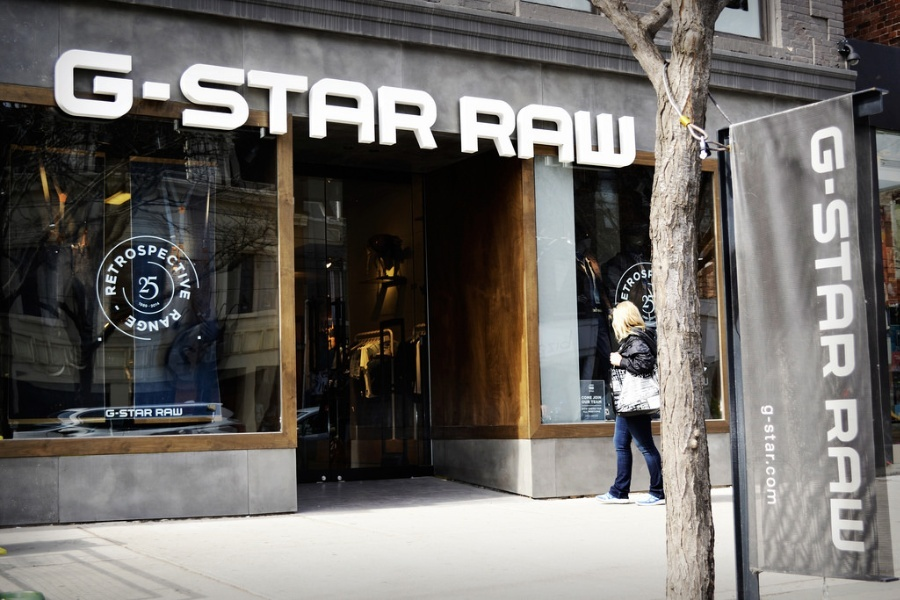text: (817, 123, 832, 381), (833, 123, 848, 381), (849, 123, 860, 381), (806, 123, 816, 381), (833, 396, 848, 554), (849, 396, 864, 554), (65, 46, 80, 151), (81, 46, 96, 151), (97, 46, 112, 151), (113, 46, 128, 151), (129, 46, 144, 151), (145, 46, 160, 151), (161, 46, 176, 151), (177, 46, 192, 151), (193, 46, 208, 151), (209, 46, 224, 151), (225, 46, 240, 151), (241, 46, 256, 151), (257, 46, 272, 151), (273, 46, 288, 151), (289, 46, 304, 151), (305, 46, 320, 151), (321, 46, 336, 151), (337, 46, 352, 151), (353, 46, 368, 151), (369, 46, 384, 151), (385, 46, 400, 151), (401, 46, 416, 151), (417, 46, 432, 151), (823, 396, 832, 554), (53, 46, 64, 151), (465, 94, 480, 171), (481, 94, 496, 171), (497, 94, 512, 171), (513, 94, 528, 171), (529, 94, 544, 171), (545, 94, 560, 171), (561, 94, 576, 171), (577, 94, 592, 171), (593, 94, 608, 171), (609, 94, 624, 171), (625, 94, 639, 171), (769, 404, 778, 506), (113, 244, 128, 301), (129, 244, 144, 301), (145, 244, 160, 301), (161, 244, 176, 301), (177, 244, 192, 301), (760, 404, 768, 506), (625, 260, 640, 303), (865, 396, 869, 554), (433, 46, 438, 151), (612, 260, 624, 303), (129, 305, 144, 338), (145, 305, 160, 338), (161, 305, 176, 338), (458, 94, 464, 171), (145, 275, 160, 300), (641, 260, 648, 303), (177, 305, 186, 338), (642, 295, 656, 315), (193, 244, 196, 301), (113, 408, 128, 419), (129, 408, 144, 419), (161, 407, 176, 417), (138, 275, 144, 300), (124, 305, 128, 338), (145, 301, 160, 309), (110, 244, 112, 301), (581, 395, 592, 405), (593, 395, 604, 405), (145, 408, 153, 419), (648, 269, 656, 280), (105, 408, 112, 419), (177, 407, 183, 417), (155, 407, 160, 417), (138, 301, 144, 309), (161, 301, 163, 309)
